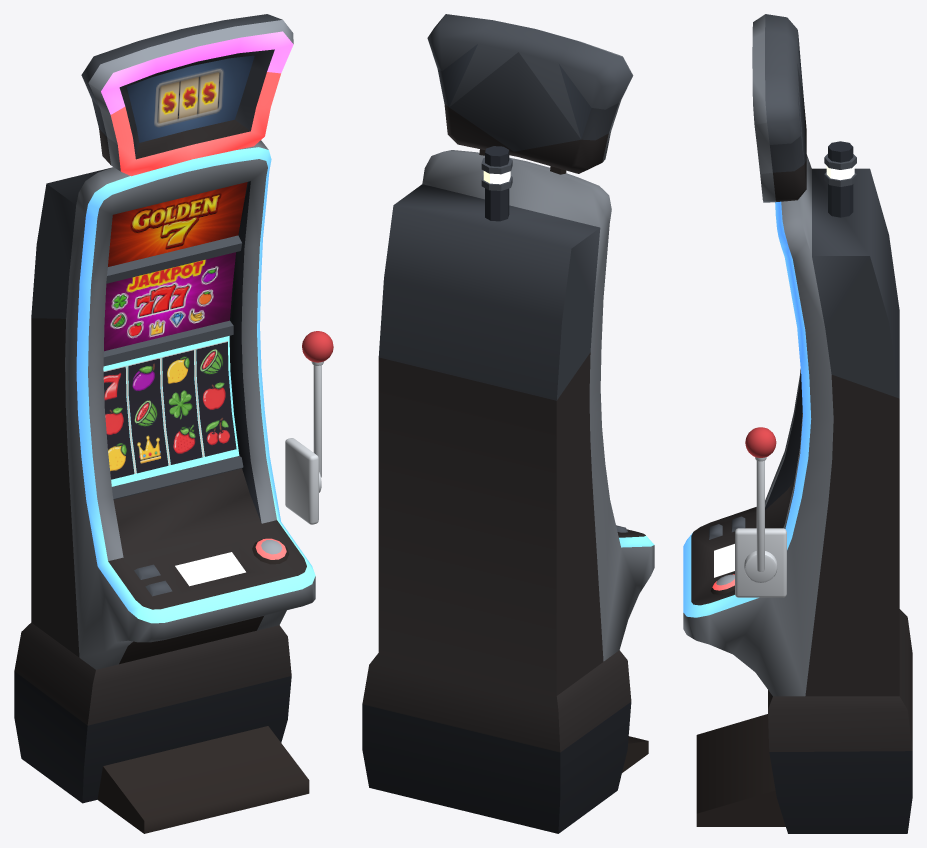
Rendered from caca_niquel_jackpot_pacote.glb.
3 views of the same model, side by side, from view 1: azimuth 30°, elevation 25°; view 2: azimuth 150°, elevation 25°; view 3: azimuth 270°, elevation 25° (orthographic). The views are drawn at different scales.
Visible parts, largest first — view 1: caca_niquel_jackpot_pacote, alavanca; view 2: caca_niquel_jackpot_pacote; view 3: caca_niquel_jackpot_pacote, alavanca.
Boxes of the visible parts, box(x1,y1,x2,y2) form: caca_niquel_jackpot_pacote: box(14, 14, 321, 833); alavanca: box(302, 331, 333, 477); caca_niquel_jackpot_pacote: box(362, 14, 654, 833); caca_niquel_jackpot_pacote: box(683, 14, 912, 833); alavanca: box(745, 427, 776, 571).
Size of the model in its own units: 0.7302 by 2.19 by 0.6179.
Materials: 8 (3 with a texture image).
